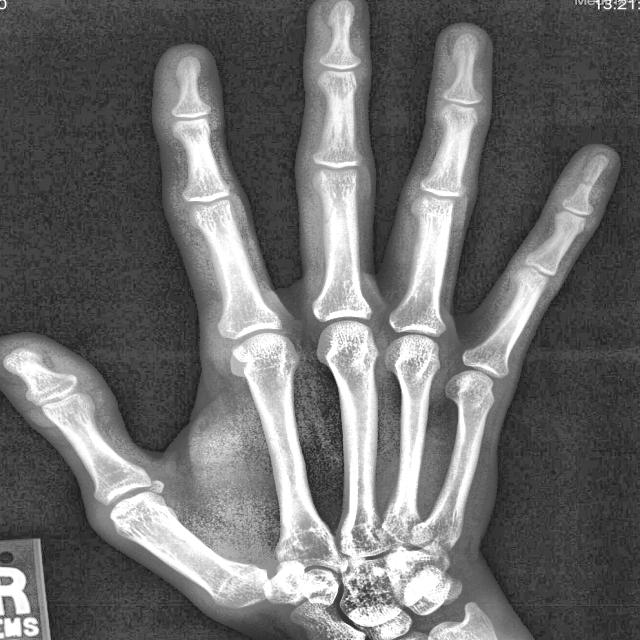fracture: (578, 178, 596, 190)
